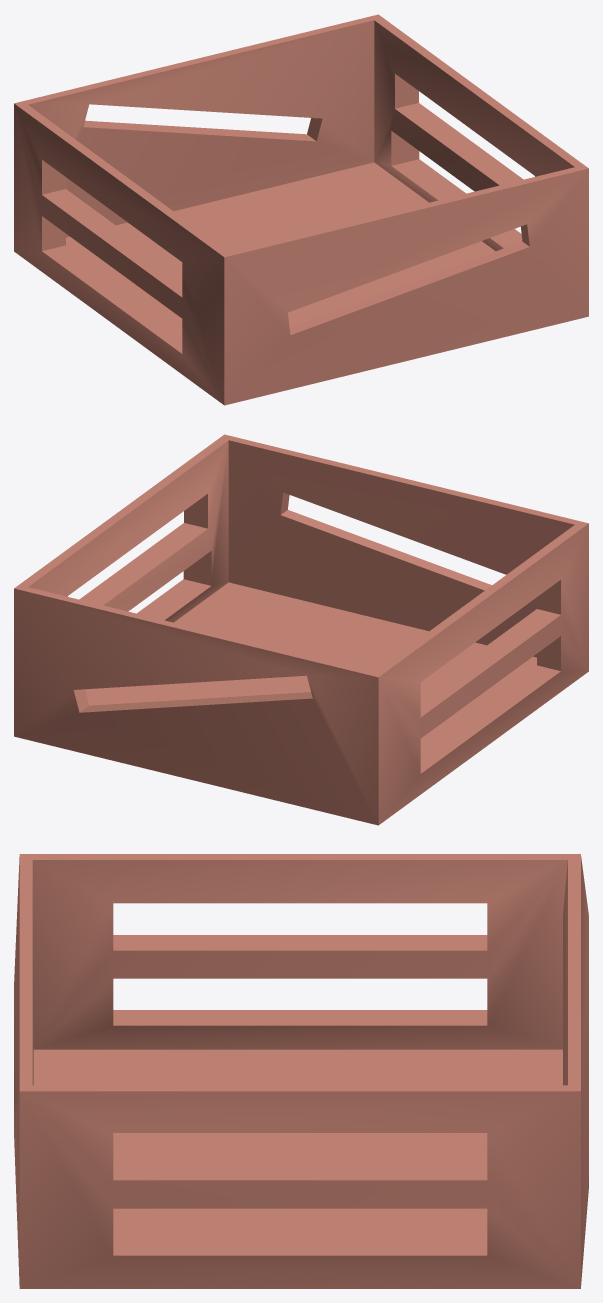
Rendered from Basket.fbx.
The picture shows the model from 3 angles, top to bottom: view 1: azimuth 30°, elevation 25°; view 2: azimuth 150°, elevation 25°; view 3: azimuth 270°, elevation 25°; orthographic projection. The views are drawn at different scales.
Visible parts, largest first — view 1: pCube15; view 2: pCube15; view 3: pCube15.
Boxes of the visible parts, bbox=[...] form: pCube15: bbox=[14, 14, 588, 405]; pCube15: bbox=[14, 434, 588, 825]; pCube15: bbox=[14, 854, 588, 1288].
Bounding box in the file's own units: 1.55 × 0.5824 × 1.54.
